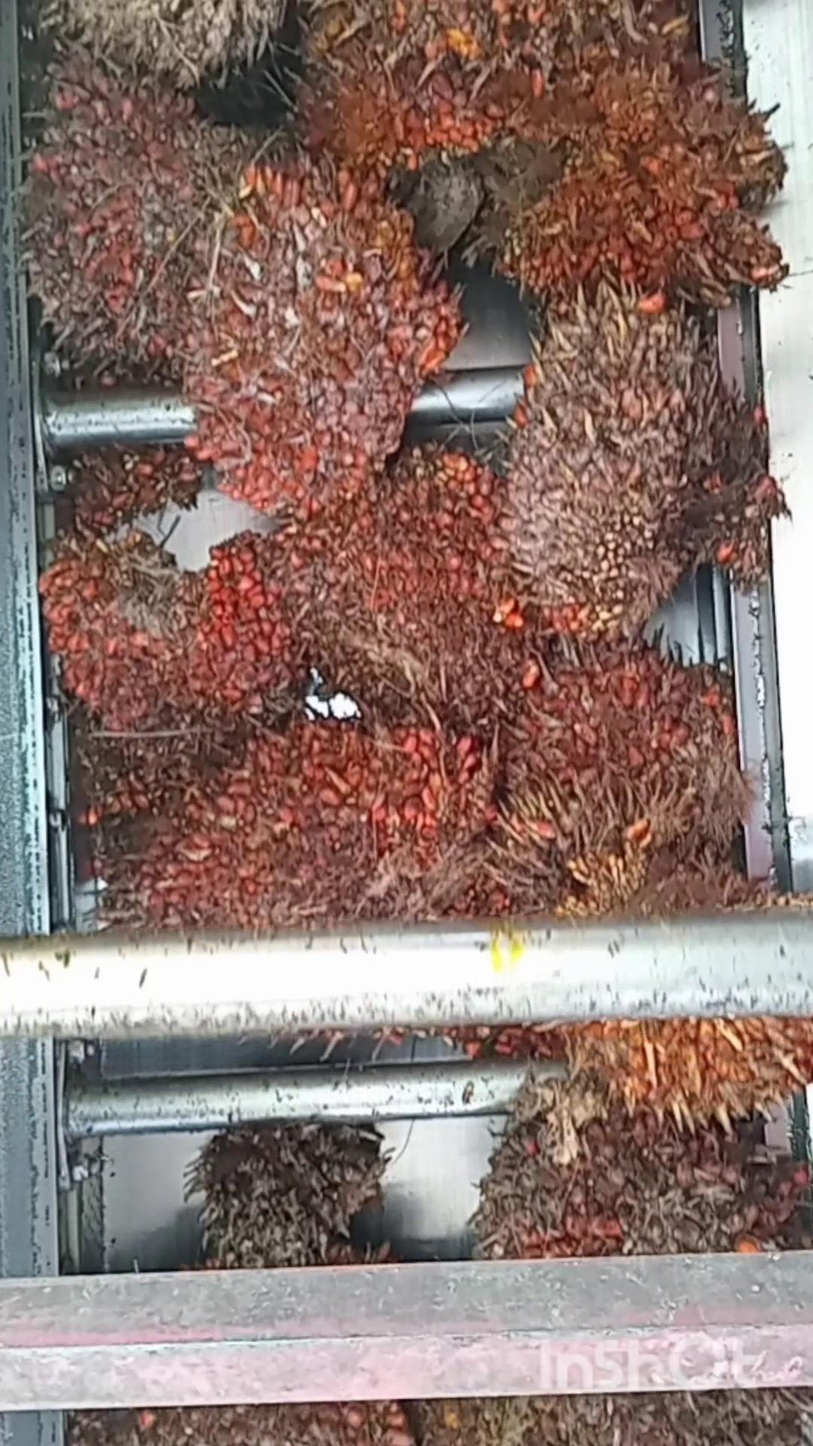Maduro: (191, 169, 447, 536), (20, 81, 281, 384), (152, 714, 489, 939), (289, 438, 548, 722), (306, 0, 694, 186), (31, 482, 293, 741), (476, 642, 743, 890), (474, 1072, 791, 1254), (161, 1097, 425, 1264)
Podrido: (504, 281, 743, 648)
